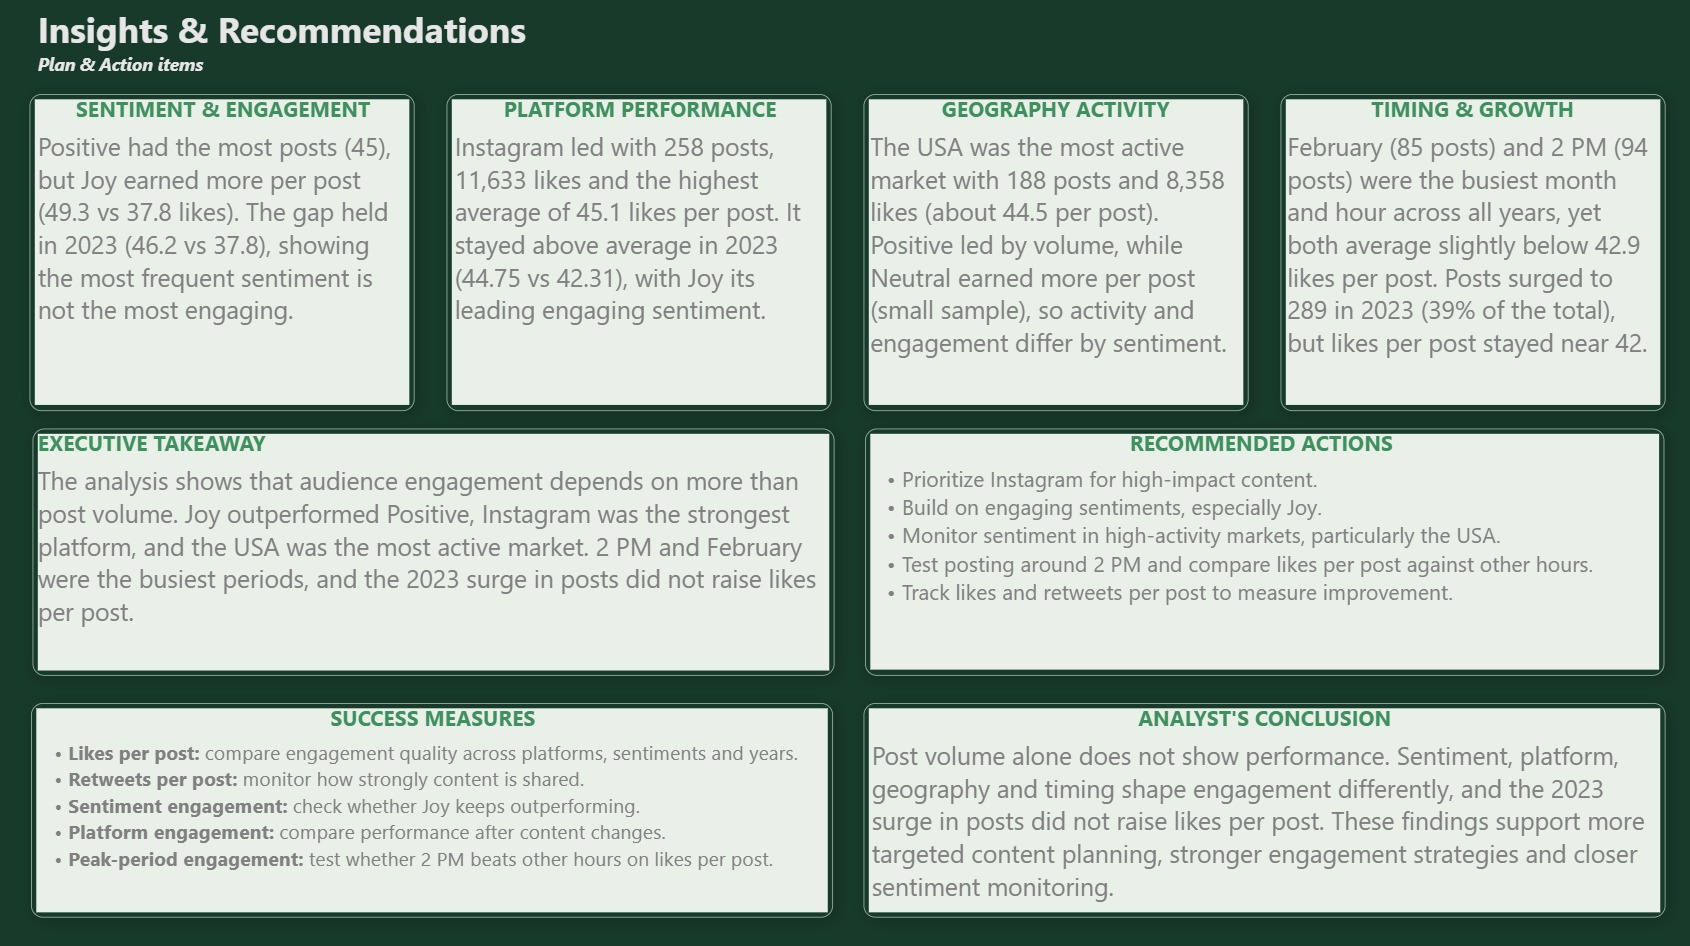

The dashboard page shown, as its layout file describes it:
{"tool":"powerbi","page":{"name":"Insight ","canvas":[1280,720],"ordinal":2},"visuals":[{"type":"shape","box":[0,0,1279.5,720.8],"z":0},{"type":"shape","box":[24.2,72.7,290.7,239.2],"z":1000},{"type":"shape","box":[24.4,532.2,605.6,162.2],"z":2000},{"type":"shape","box":[25.6,324.4,605.6,186.7],"z":3000},{"type":"textbox","title":"EXECUTIVE TAKEAWAY","box":[24.4,324.4,605.6,186.7],"z":4000},{"type":"shape","box":[338.7,72.7,290.7,239.2],"z":5000},{"type":"shape","box":[653.1,72.7,290.7,239.2],"z":6000},{"type":"shape","box":[967.6,72.7,290.7,239.2],"z":7000},{"type":"textbox","title":"SUCCESS MEASURES","box":[25.6,532.2,604.4,162.2],"z":8000},{"type":"shape","box":[653.3,532.2,605.6,162.2],"z":9000},{"type":"textbox","title":"ANALYST''S CONCLUSION","box":[654.4,532.2,603.3,162.2],"z":10000},{"type":"textbox","title":"SENTIMENT & ENGAGEMENT","box":[24.8,72.9,290.1,239.1],"z":11000},{"type":"textbox","title":"PLATFORM PERFORMANCE ","box":[339.7,72.9,290.1,239.1],"z":12000},{"type":"textbox","title":"GEOGRAPHY ACTIVITY","box":[653.1,72.9,290.1,239.1],"z":13000},{"type":"textbox","title":"TIMING & ACTIVITY","box":[968,72.9,290.1,239.1],"z":14000},{"type":"textbox","box":[24.5,0,1233.1,72.3],"z":15000},{"type":"shape","box":[654.4,324.4,604.4,186.7],"z":16000},{"type":"textbox","title":"RECOMMENDED ACTIONS","box":[653.3,324.4,600,184.4],"z":17000}]}

Visuals, with their boxes in screenshot pixels (x1, y1, x2, y2), scaled from the page's 1280x720 canvas onto the 1690x946 screenshot:
shape: (x1=0, y1=0, x2=1689, y2=945)
shape: (x1=32, y1=96, x2=416, y2=410)
shape: (x1=32, y1=699, x2=832, y2=912)
shape: (x1=34, y1=426, x2=833, y2=672)
"EXECUTIVE TAKEAWAY" textbox: (x1=32, y1=426, x2=832, y2=672)
shape: (x1=447, y1=96, x2=831, y2=410)
shape: (x1=862, y1=96, x2=1246, y2=410)
shape: (x1=1278, y1=96, x2=1661, y2=410)
"SUCCESS MEASURES" textbox: (x1=34, y1=699, x2=832, y2=912)
shape: (x1=863, y1=699, x2=1662, y2=912)
"ANALYST''S CONCLUSION" textbox: (x1=864, y1=699, x2=1661, y2=912)
"SENTIMENT & ENGAGEMENT" textbox: (x1=33, y1=96, x2=416, y2=410)
"PLATFORM PERFORMANCE " textbox: (x1=449, y1=96, x2=832, y2=410)
"GEOGRAPHY ACTIVITY" textbox: (x1=862, y1=96, x2=1245, y2=410)
"TIMING & ACTIVITY" textbox: (x1=1278, y1=96, x2=1661, y2=410)
textbox: (x1=32, y1=0, x2=1660, y2=95)
shape: (x1=864, y1=426, x2=1662, y2=672)
"RECOMMENDED ACTIONS" textbox: (x1=863, y1=426, x2=1655, y2=669)
